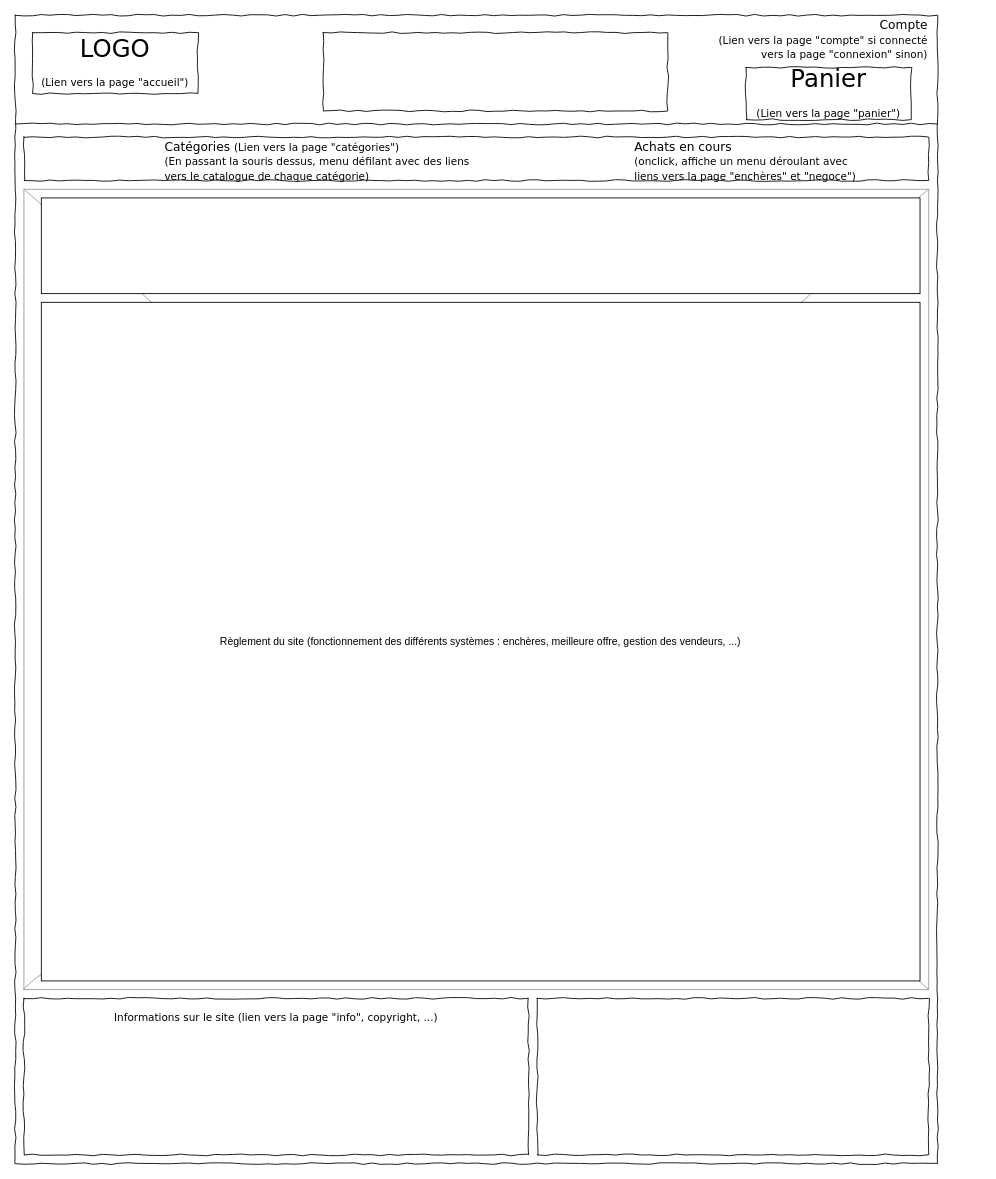
This 996x1179 diagram has some shape labels left out. The centre of each missing label's shape, as x and y in pixels:
Bienvenue ...: the point at 495,71
Infos sur la création du site: the point at 480,245
Nous contacter: the point at 732,1076
